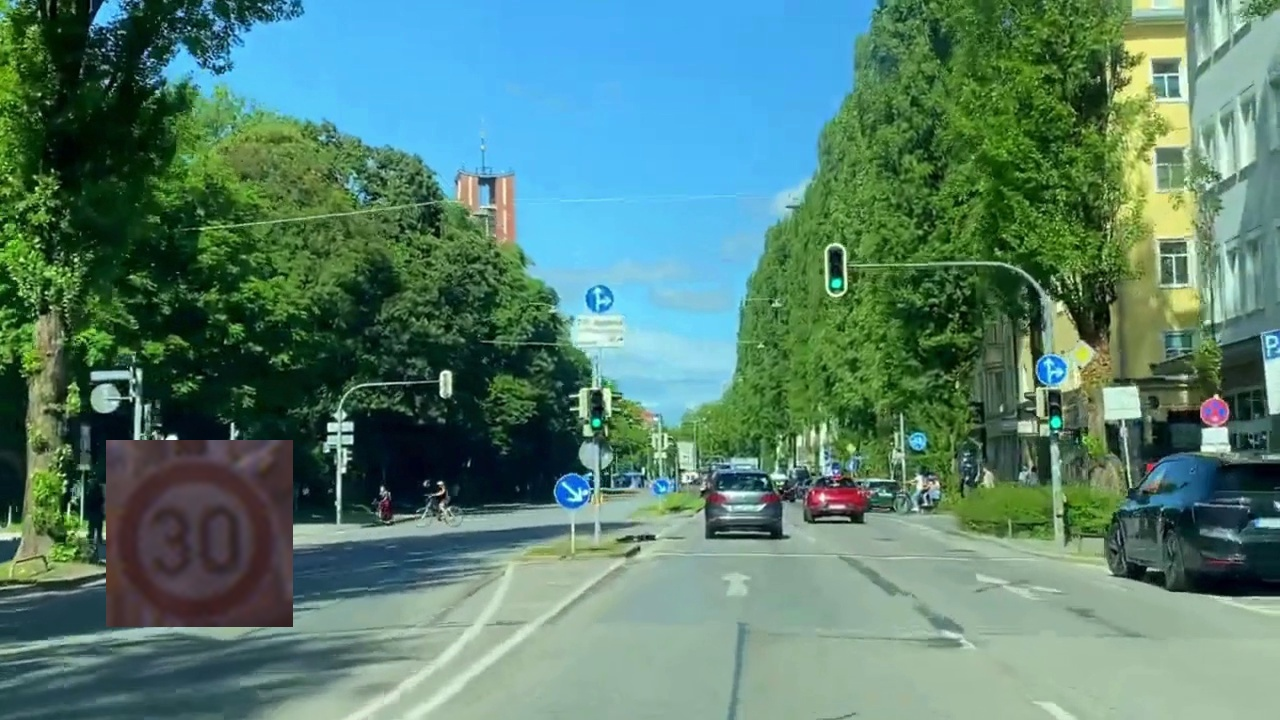Speed 30: (106, 440, 293, 627)
